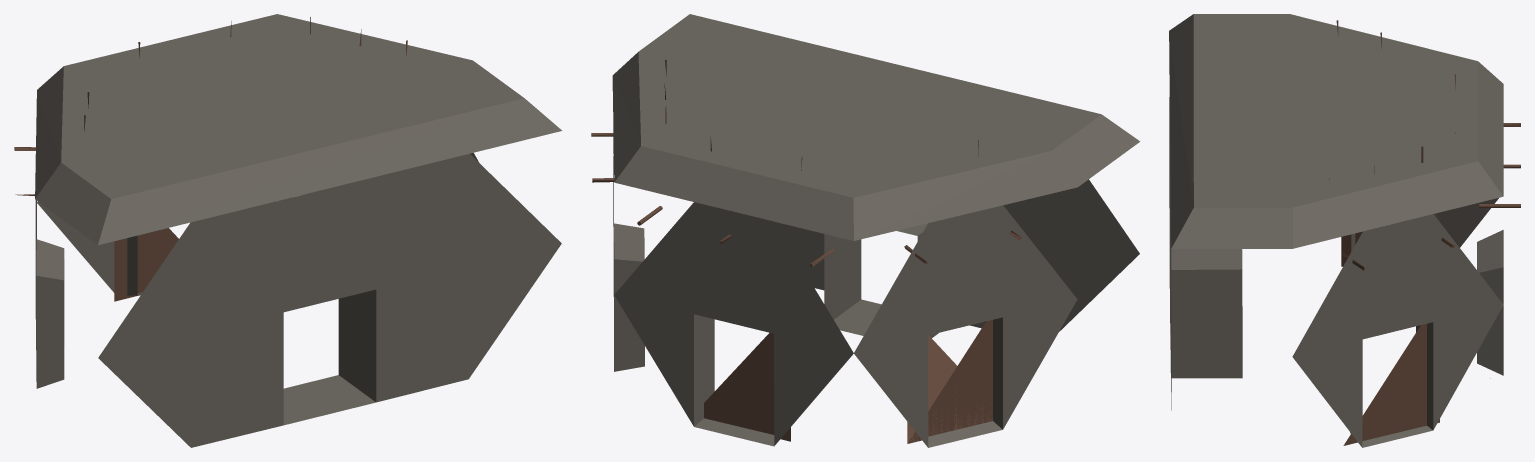
Rendered from bw-bunker.lod2.glb.
3 views of the same model, side by side, from view 1: azimuth 30°, elevation 25°; view 2: azimuth 150°, elevation 25°; view 3: azimuth 270°, elevation 25° (orthographic). The views are drawn at different scales.
Visible parts, largest first — view 1: Cube.001_0; view 2: Cube.001_0; view 3: Cube.001_0.
Boxes of the visible parts, left/top/right/bottom form: Cube.001_0: left=14, top=14, right=562, bottom=447; Cube.001_0: left=591, top=14, right=1139, bottom=447; Cube.001_0: left=1169, top=14, right=1520, bottom=447.
Bounding box in the file's own units: 9 × 5.05 × 6.13.
